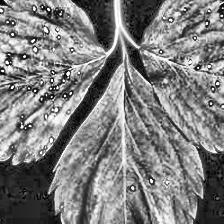Leaf Spot: (47, 51, 205, 224), (0, 0, 106, 166), (139, 0, 224, 153)
